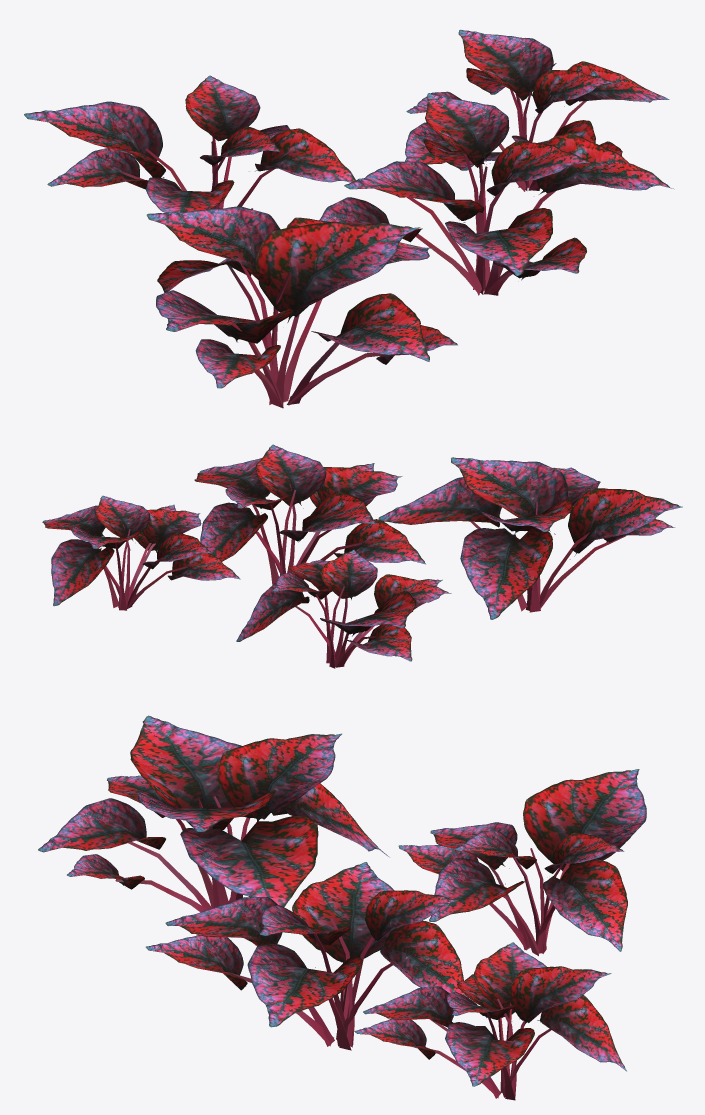
The model's file is Demo_hua_02.FBX.
3 views of the same model, one above another, from view 1: azimuth 30°, elevation 25°; view 2: azimuth 150°, elevation 25°; view 3: azimuth 270°, elevation 25° (orthographic). The views are drawn at different scales.
Parts seen in each view (by area): view 1: Demo_hua_02; view 2: Demo_hua_02; view 3: Demo_hua_02.
Boxes of the visible parts, box(x1,y1,x2,y2) form: Demo_hua_02: box(24, 29, 674, 408); Demo_hua_02: box(42, 444, 682, 668); Demo_hua_02: box(38, 715, 646, 1100).
Size of the model in its own units: 4.75 by 1.09 by 4.03.
